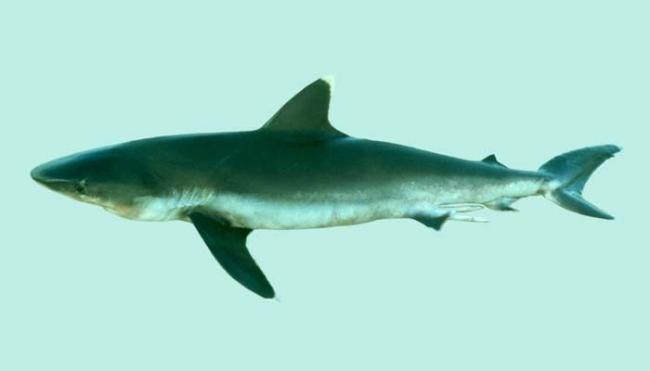fish: (30, 77, 624, 300)
